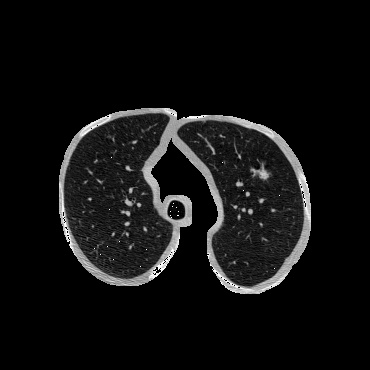PN: (253, 165, 269, 181)
